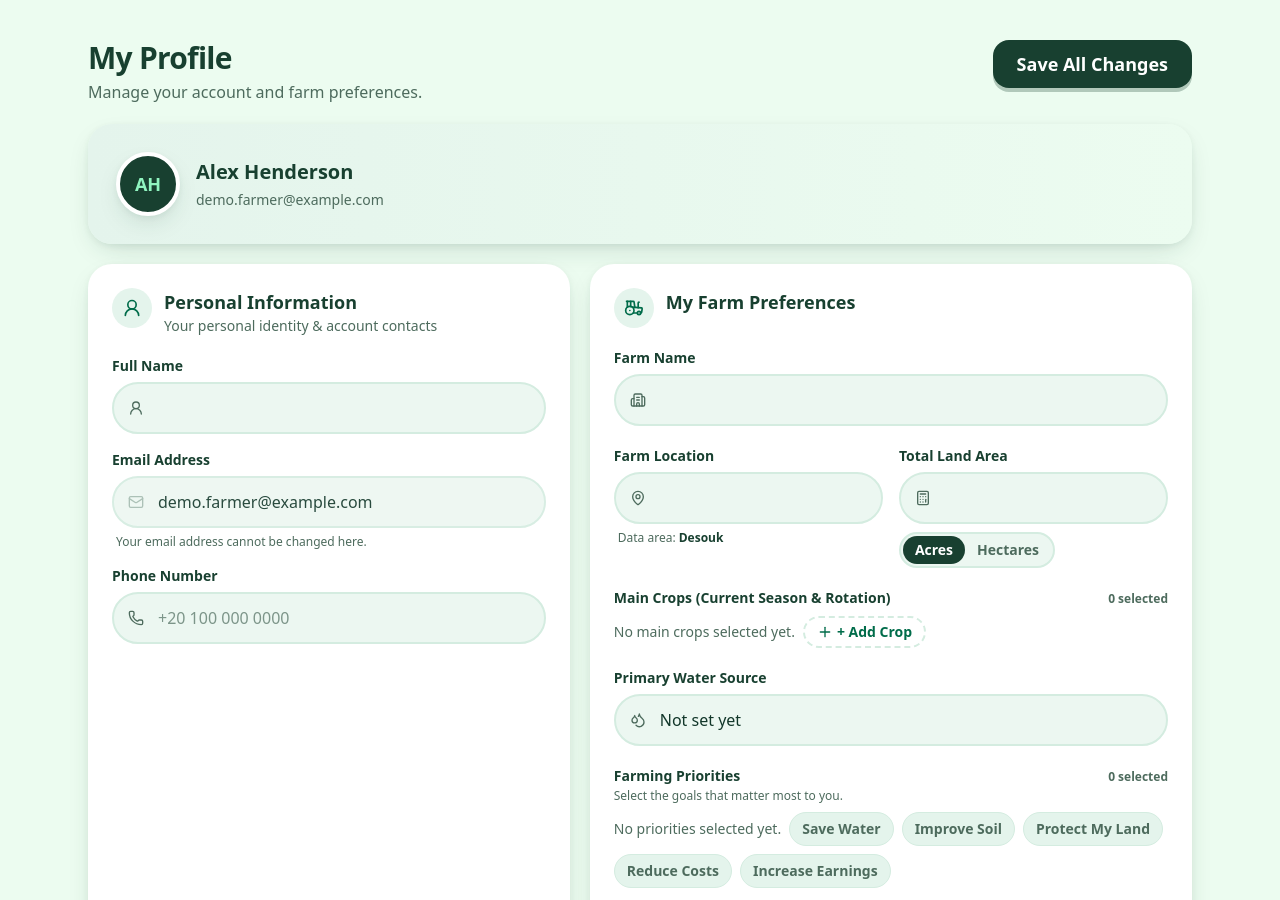
Test: profile page › blocks the save and shows the field error when the name is empty
Click the button "Save All Changes" at x=1092, y=64, box [993,40,1192,88]
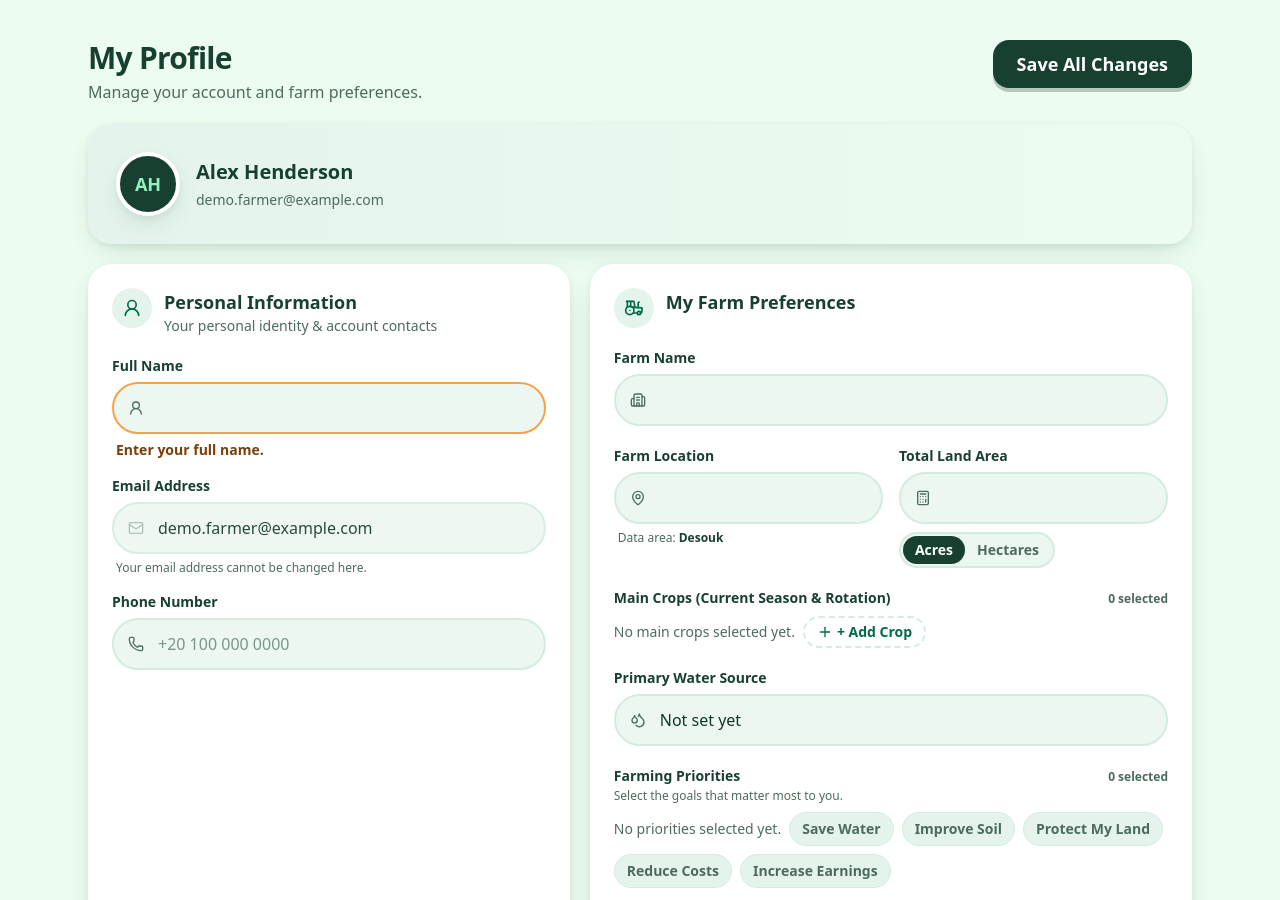
Result: the text "Enter your full name." is shown at [116,440,264,459]
